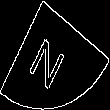N_NE: (33, 23, 77, 87)
